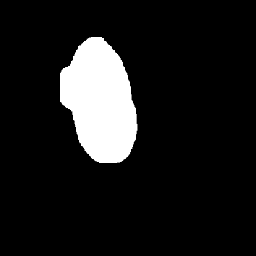mass: (60, 39, 129, 157)
